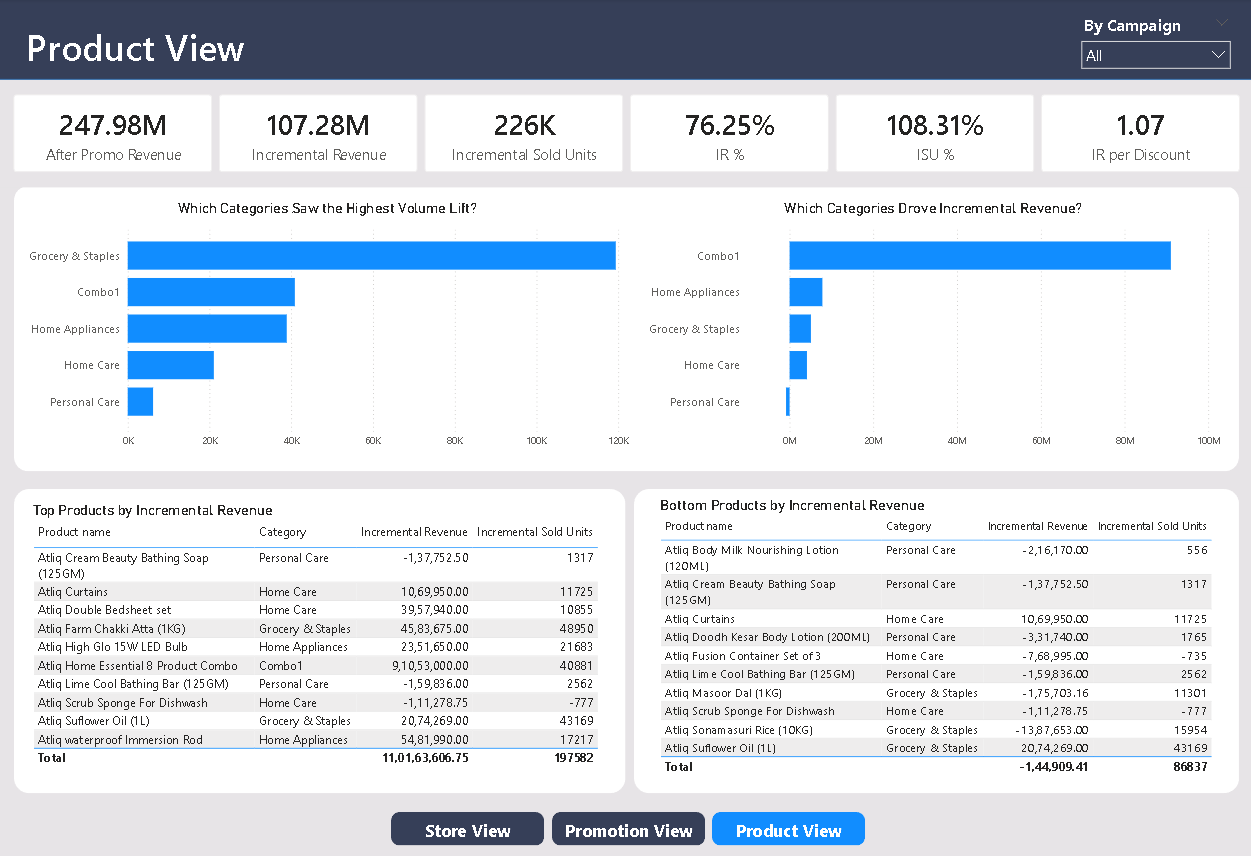

The dashboard page shown, as its layout file describes it:
{"tool":"powerbi","page":{"name":"Product View","canvas":[1500,1025],"ordinal":2},"visuals":[{"type":"shape","box":[-7.5,0,1507.5,96.2],"z":0},{"type":"shape","box":[756.2,583.8,721.2,362.5],"z":1000},{"type":"shape","box":[17.5,583.8,728.8,362.5],"z":2000},{"type":"shape","box":[17.5,222.5,1460,340],"z":3000},{"type":"cardVisual","fields":{"Data":["key_measures.After Promo Revenue","key_measures.Incremental Revenue","key_measures.Incremental Sold Units","key_measures.IR %","key_measures.ISU %","key_measures.IR per Discount"]},"box":[0,96.2,1500,127.5],"z":4000},{"type":"barChart","fields":{"Category":["dim_products.category"],"Y":["key_measures.Incremental Revenue"]},"box":[766.2,240,695,303.8],"z":5000},{"type":"barChart","fields":{"Category":["dim_products.category"],"Y":["key_measures.Incremental Sold Units"]},"box":[27.5,240,728.8,303.8],"z":6000},{"type":"tableEx","title":"Top 10 Stores","fields":{"Values":["dim_products.product_name","dim_products.category","key_measures.Incremental Revenue","key_measures.Incremental Sold Units"]},"box":[40,605,683.8,320],"z":7000},{"type":"tableEx","title":"Top 10 Stores","fields":{"Values":["dim_products.product_name","dim_products.category","key_measures.Incremental Revenue","key_measures.Incremental Sold Units"]},"box":[782.5,593.8,670,341.2],"z":8000},{"type":"actionButton","box":[467.5,968.8,182.5,40],"z":9000},{"type":"actionButton","box":[658.8,968.8,182.5,40],"z":10000},{"type":"actionButton","box":[850,968.8,182.5,40],"z":11000},{"type":"textbox","box":[27.5,21.2,311.2,75],"z":12000},{"type":"slicer","fields":{"Values":["dim_campaigns.campaign_name"]},"box":[1280.1,13.1,197.8,71.5],"z":14001}]}

Visuals, with their boxes in screenshot pixels (x1, y1, x2, y2), scaled from the page's 1500x1025 canvas onto the 1251x856 screenshot:
shape: l=0, t=0, r=1250, b=80
shape: l=631, t=488, r=1232, b=790
shape: l=15, t=488, r=622, b=790
shape: l=15, t=186, r=1232, b=470
cardVisual - key_measures.After Promo Revenue x key_measures.Incremental Revenue: l=0, t=80, r=1250, b=187
barChart - dim_products.category x key_measures.Incremental Revenue: l=639, t=200, r=1219, b=454
barChart - dim_products.category x key_measures.Incremental Sold Units: l=23, t=200, r=631, b=454
"Top 10 Stores" tableEx: l=33, t=505, r=604, b=772
"Top 10 Stores" tableEx: l=653, t=496, r=1211, b=781
actionButton: l=390, t=809, r=542, b=842
actionButton: l=549, t=809, r=702, b=842
actionButton: l=709, t=809, r=861, b=842
textbox: l=23, t=18, r=282, b=80
slicer - dim_campaigns.campaign_name: l=1068, t=11, r=1233, b=71
